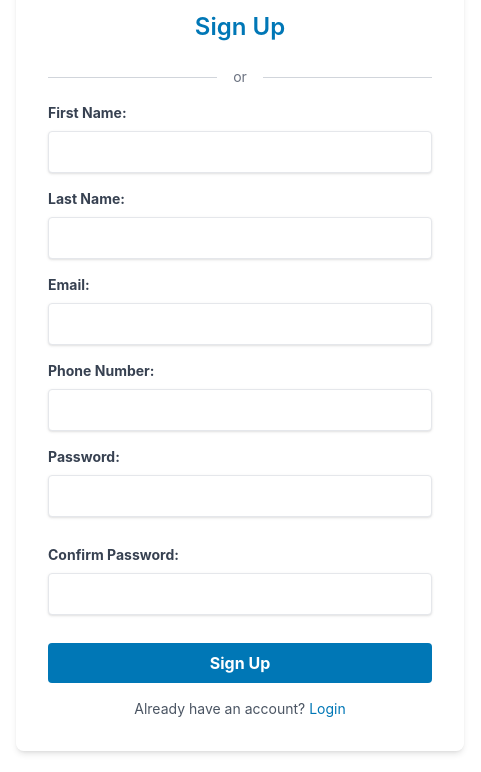
Test: Signup › validates that passwords match
The width and height of the screenshot is (481, 772).
In the field labelled "First Name:": (240, 152) [48,131,432,173], type "John"
In the field labelled "Last Name:": (240, 238) [48,217,432,259], type "Doe"
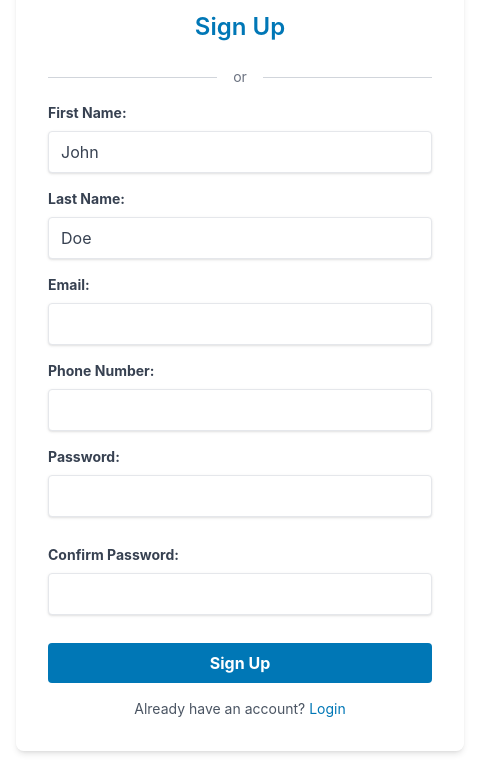
In the field labelled "Email:": (240, 324) [48,303,432,345], type "john.doe@example.com"
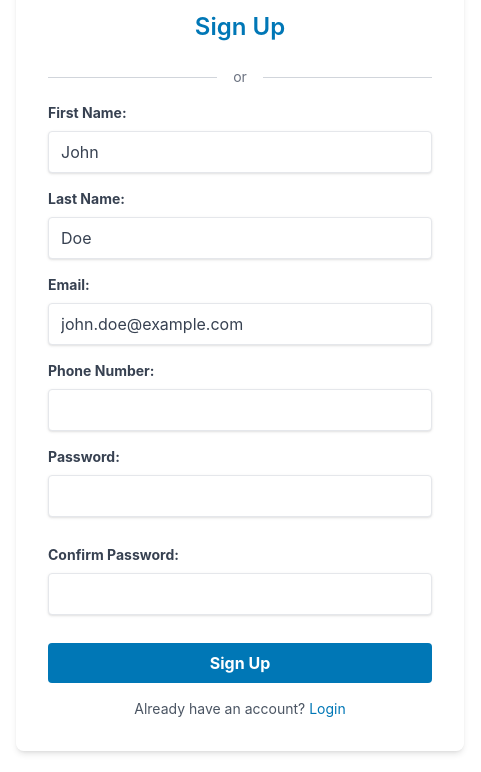
In the field labelled "Phone Number:": (240, 410) [48,389,432,431], type "+254700000000"
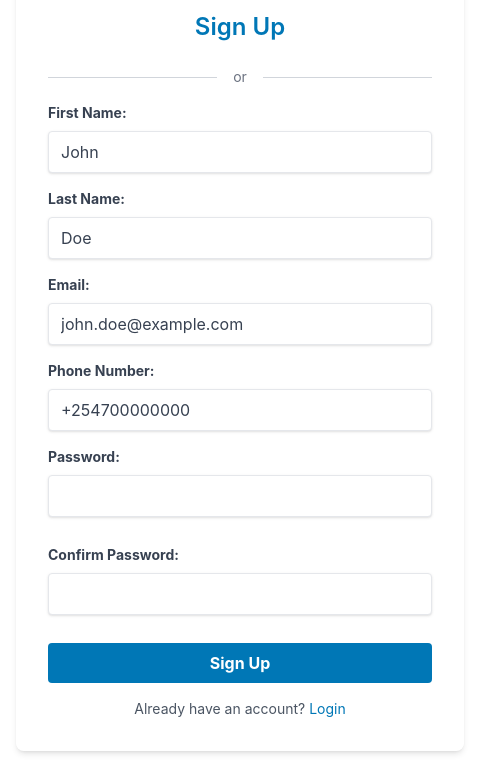
In the password field labelled "Password:": (240, 496) [48,475,432,517], type "password123"
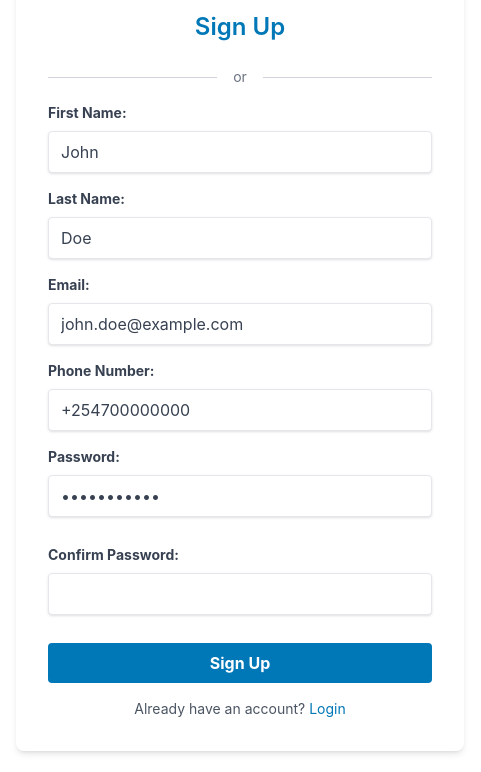
In the password field labelled "Confirm Password:": (240, 594) [48,573,432,615], type "differentpassword"
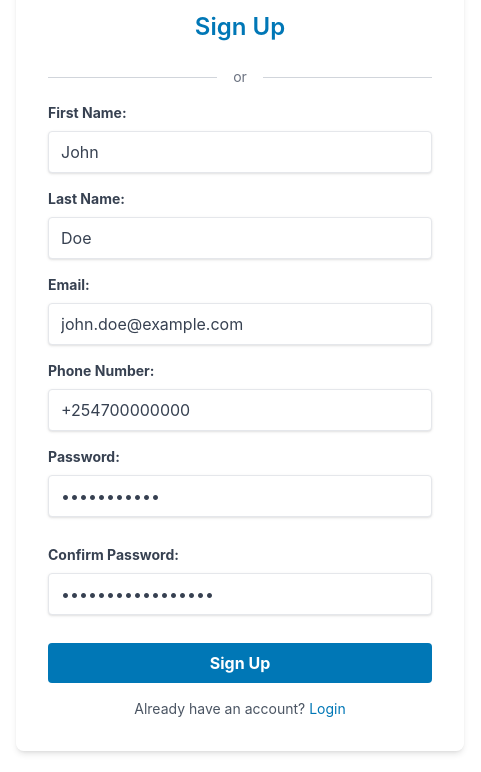
Click the button "Sign Up": (240, 663) [48,643,432,683]
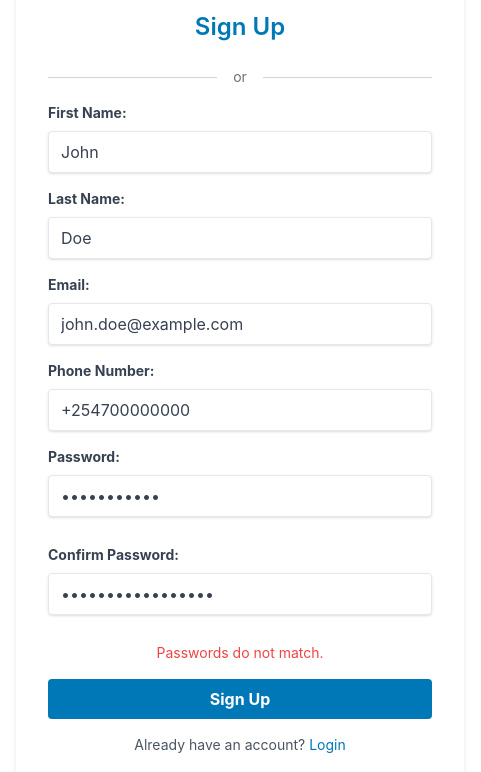
expect the text "Passwords do not match." is shown: met, box [156,644,324,661]
